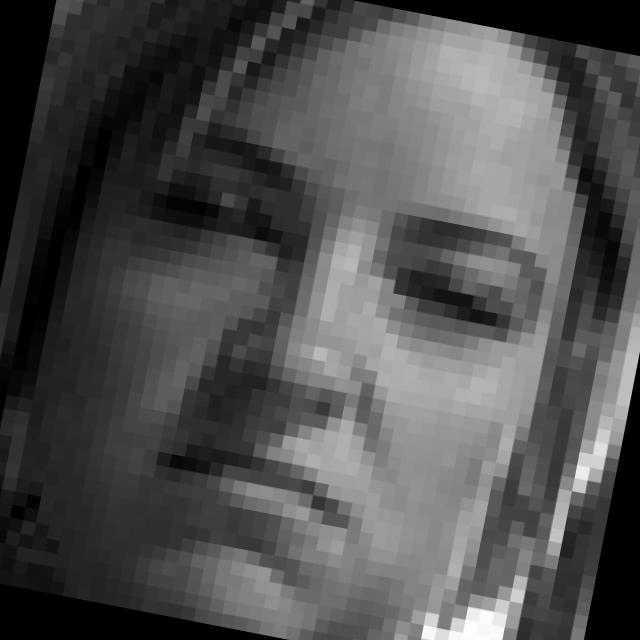disgust: (68, 112, 561, 626)
